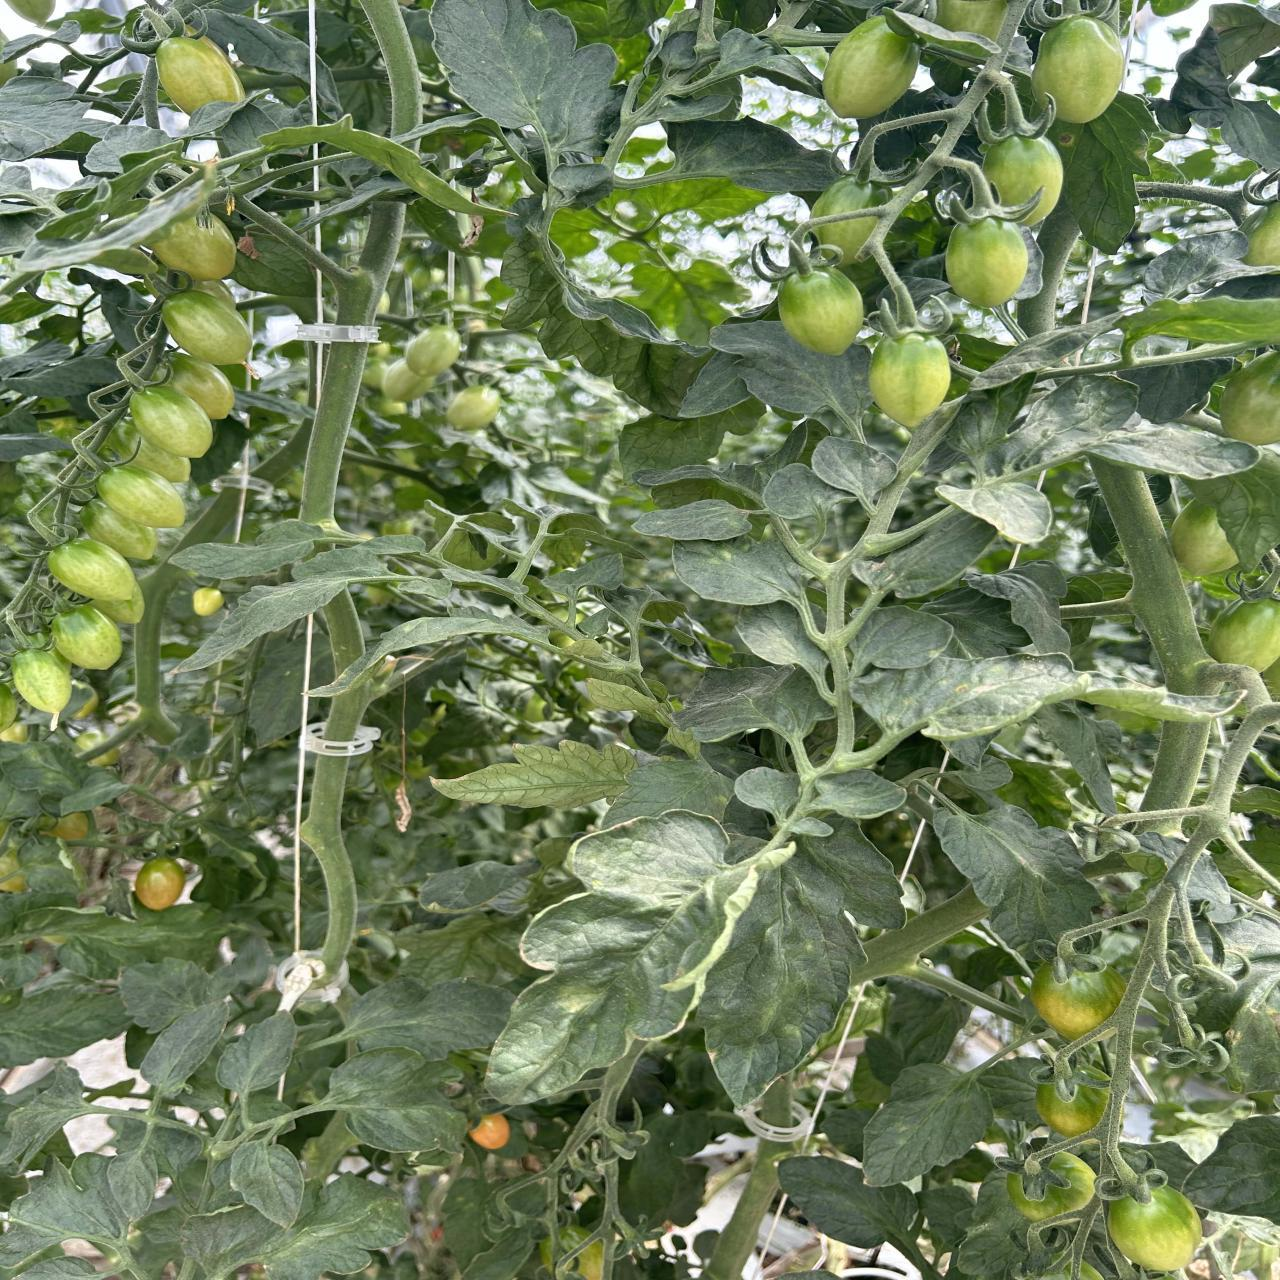Hoja: (431, 0, 624, 169), (179, 545, 396, 672), (933, 802, 1099, 959), (179, 1175, 409, 1280), (863, 1064, 994, 1186), (716, 321, 872, 423), (326, 1047, 467, 1151), (431, 741, 636, 809), (347, 978, 515, 1060), (778, 1156, 918, 1247), (674, 666, 833, 742), (880, 510, 998, 598), (1082, 424, 1259, 479), (173, 520, 322, 579), (674, 539, 806, 605), (141, 1002, 229, 1096), (938, 482, 1053, 544), (736, 602, 829, 679), (850, 606, 953, 673), (217, 1012, 298, 1091), (230, 1141, 304, 1226), (633, 499, 751, 540), (762, 463, 842, 519), (816, 769, 906, 818), (735, 767, 798, 822)
Hoja rugoso: (490, 812, 757, 1102), (695, 840, 864, 1103), (851, 654, 1182, 740)
Pedunculo: (1088, 456, 1218, 695), (134, 486, 240, 740), (799, 559, 884, 769), (300, 754, 363, 985), (701, 1141, 791, 1280), (301, 341, 366, 519), (334, 199, 406, 326), (360, 0, 422, 136), (1142, 720, 1210, 810), (320, 666, 377, 749), (251, 418, 312, 483), (324, 591, 365, 681), (776, 520, 822, 567), (859, 743, 884, 764)
Tomate: (1033, 16, 1123, 124), (823, 18, 919, 118), (1108, 1186, 1201, 1271), (869, 333, 951, 429), (1030, 962, 1128, 1042), (777, 270, 864, 355), (946, 218, 1029, 307), (982, 136, 1063, 224), (163, 291, 251, 366), (150, 211, 236, 281), (130, 386, 212, 457), (47, 538, 136, 601), (1219, 353, 1280, 444), (1204, 599, 1280, 670), (97, 467, 185, 527), (1170, 502, 1238, 577), (52, 605, 122, 669), (81, 501, 157, 559), (169, 356, 234, 420), (1035, 1083, 1109, 1138), (11, 651, 72, 714), (811, 178, 892, 220), (813, 218, 877, 264), (134, 859, 185, 910), (468, 1112, 510, 1150)
